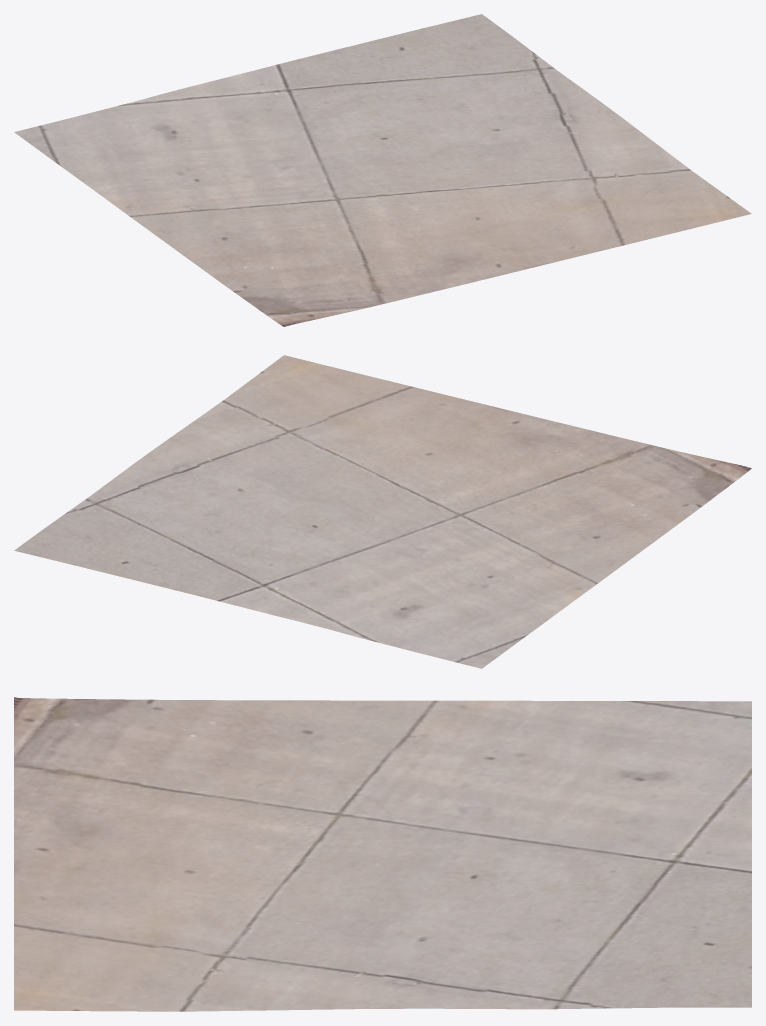
3 renders of one model, top to bottom at view 1: azimuth 30°, elevation 25°; view 2: azimuth 150°, elevation 25°; view 3: azimuth 270°, elevation 25°, orthographic. The views are drawn at different scales.
Size of the model in its own units: 4.18 by 0.035 by 4.18.
Materials: 2 (2 with a texture image).
